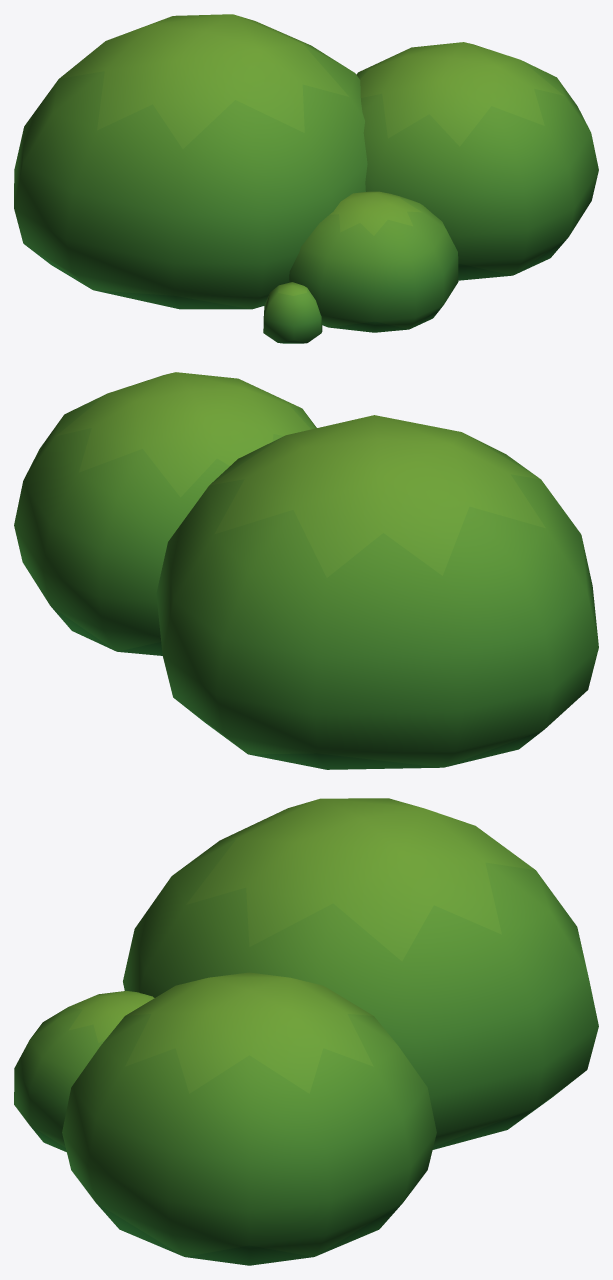
File: plant-bush-large.glb
3 views of the same model, one above another, from view 1: azimuth 30°, elevation 25°; view 2: azimuth 150°, elevation 25°; view 3: azimuth 270°, elevation 25° (orthographic). The views are drawn at different scales.
Parts seen in each view (by area): view 1: plant.bush.large; view 2: plant.bush.large; view 3: plant.bush.large.
Boxes of the visible parts, <box> form: plant.bush.large: <box>14,14,598,343</box>; plant.bush.large: <box>14,372,598,769</box>; plant.bush.large: <box>14,798,598,1265</box>.
Size of the model in its own units: 2.28 by 0.9938 by 1.88.
